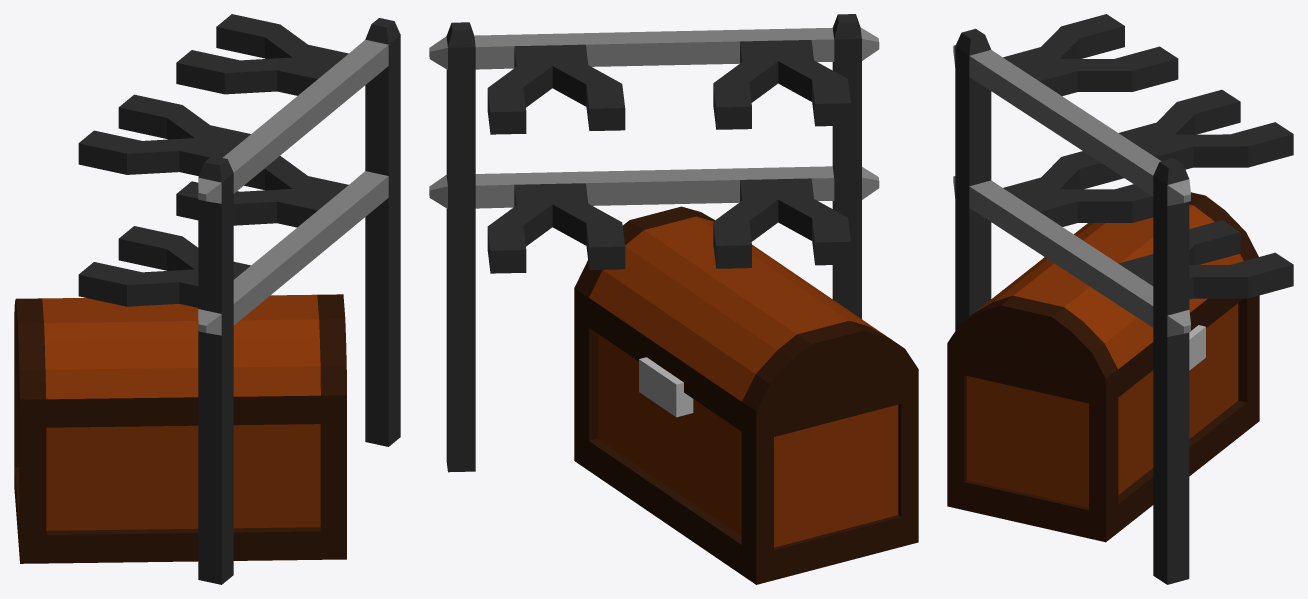
File: spear_holder.fbx
3 views of the same model, side by side, from view 1: azimuth 30°, elevation 25°; view 2: azimuth 150°, elevation 25°; view 3: azimuth 270°, elevation 25° (orthographic). The views are drawn at different scales.
Parts seen in each view (by area): view 1: Cube.011, Cube.012; view 2: Cube.011, Cube.012; view 3: Cube.012, Cube.011.
Part boxes in pixels (left/top/right/bottom): Cube.011: left=14, top=294, right=346, bottom=563; Cube.012: left=78, top=14, right=400, bottom=584; Cube.011: left=574, top=206, right=918, bottom=584; Cube.012: left=429, top=14, right=879, bottom=472; Cube.012: left=953, top=14, right=1293, bottom=584; Cube.011: left=947, top=192, right=1259, bottom=542.
Bounding box in the file's own units: 325 × 307 × 232.
Materials: 1 (1 with a texture image).
